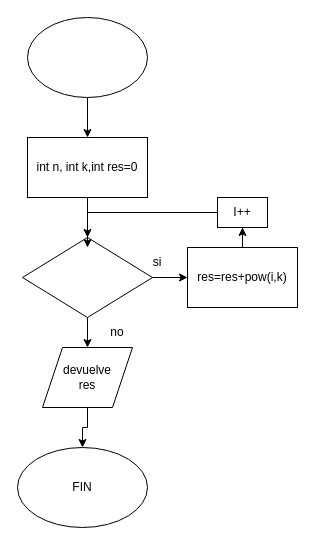
This 315x545 diagram has some shape labels left out. The shapes that lost their labels are listed below. From the top down, each one's centre as x and y in pixels, then its label:
At (87,57): "INICIO 13".
At (87,277): "int i=1, i<=n".
